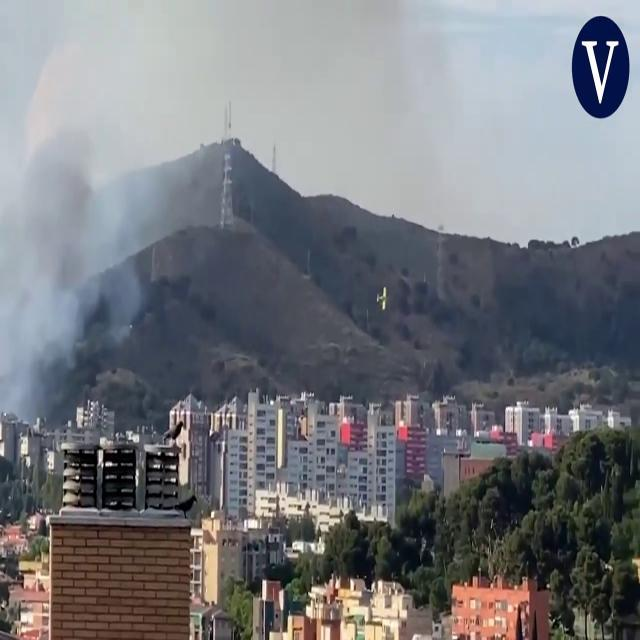Smoke: (0, 8, 148, 420)
